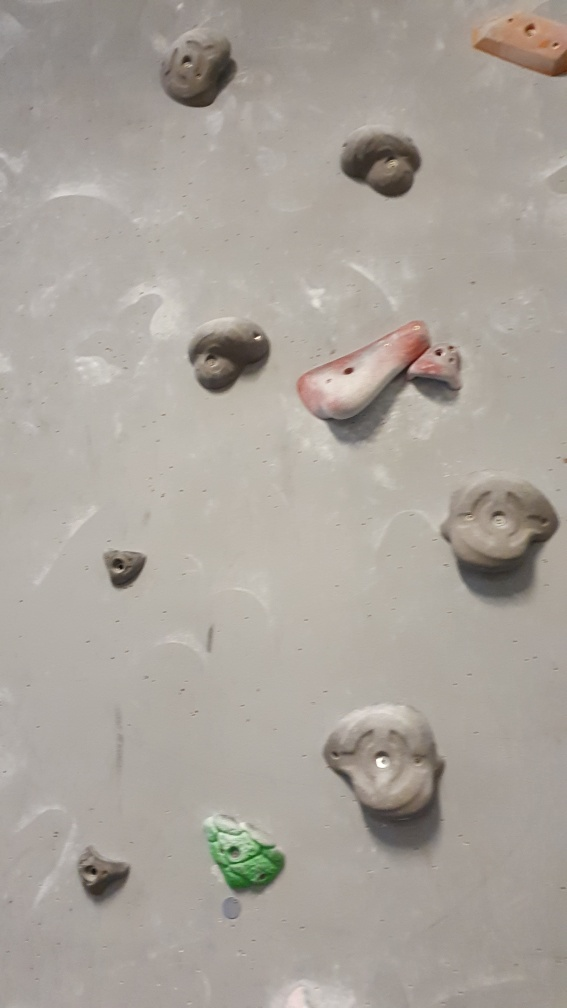Hand Start: (219, 892, 245, 922)
Jug: (323, 703, 446, 825), (438, 471, 564, 576), (203, 813, 288, 896), (336, 120, 423, 200), (188, 312, 271, 392), (155, 28, 234, 109), (405, 338, 465, 393)
Pinch: (472, 9, 567, 82)
